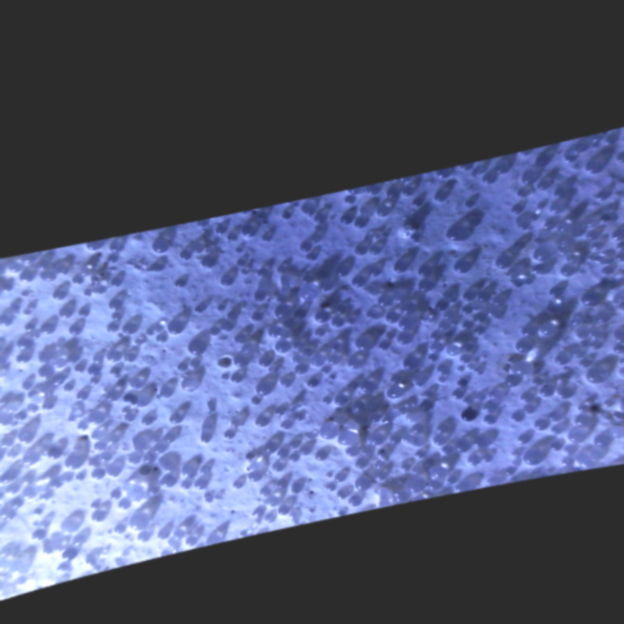GrassBeadSeg: (46, 190, 604, 513), (173, 151, 623, 474), (75, 218, 522, 537), (48, 221, 561, 496), (84, 264, 549, 566), (112, 292, 598, 545), (23, 270, 587, 476), (23, 228, 371, 557), (145, 221, 548, 495), (33, 303, 560, 511), (140, 266, 565, 519), (161, 309, 623, 538), (40, 271, 613, 443), (17, 189, 398, 442), (46, 324, 523, 519), (58, 190, 608, 357), (325, 200, 623, 490), (106, 232, 448, 481), (17, 286, 570, 435), (247, 188, 528, 481), (105, 311, 609, 474), (110, 242, 623, 398), (118, 300, 444, 533), (63, 233, 315, 532), (73, 230, 597, 369), (108, 347, 584, 499), (287, 240, 602, 460), (355, 159, 602, 433), (46, 316, 426, 493), (64, 389, 456, 560), (203, 328, 587, 502), (185, 249, 548, 429), (151, 239, 554, 397), (14, 314, 612, 420), (0, 316, 347, 498), (3, 316, 488, 446), (224, 160, 591, 331), (26, 195, 349, 386), (273, 241, 622, 416), (344, 187, 566, 456), (454, 141, 621, 492), (0, 294, 568, 396), (32, 233, 235, 514), (110, 204, 315, 477), (93, 214, 325, 451), (319, 279, 571, 495), (306, 204, 507, 469), (373, 266, 612, 480), (200, 317, 590, 444), (230, 188, 556, 335), (31, 400, 367, 539), (81, 303, 298, 514), (314, 293, 586, 460), (23, 324, 262, 512), (76, 307, 531, 404), (114, 278, 580, 369), (39, 307, 488, 401), (171, 279, 333, 538), (351, 218, 529, 452), (353, 245, 562, 443), (219, 229, 623, 331), (115, 341, 389, 491), (293, 172, 495, 374), (140, 305, 472, 426), (353, 217, 530, 443), (296, 265, 547, 421), (260, 233, 531, 374), (265, 187, 405, 452), (75, 264, 349, 399), (465, 179, 594, 464), (62, 378, 466, 469), (298, 190, 447, 436), (261, 267, 531, 402), (232, 362, 517, 488), (229, 290, 467, 439), (444, 266, 607, 483), (324, 359, 623, 477), (264, 344, 460, 523), (70, 364, 449, 455), (253, 260, 460, 426), (80, 391, 542, 464), (106, 350, 580, 420), (105, 323, 260, 534), (193, 265, 338, 489), (21, 233, 416, 315), (90, 290, 261, 479), (97, 275, 232, 510), (269, 309, 424, 513), (232, 255, 509, 368), (61, 420, 291, 556), (97, 434, 609, 495), (53, 289, 462, 361), (133, 338, 607, 400), (38, 377, 188, 570), (114, 299, 404, 398), (415, 233, 601, 386), (136, 433, 396, 542), (159, 233, 266, 485), (0, 347, 473, 404), (154, 333, 572, 397), (418, 220, 555, 410), (87, 290, 284, 422), (365, 246, 553, 383), (179, 278, 288, 514), (158, 395, 623, 450), (339, 213, 519, 349), (135, 377, 452, 454), (128, 302, 414, 387), (326, 200, 472, 364), (382, 206, 497, 411), (294, 308, 603, 384), (262, 195, 354, 450), (14, 353, 147, 529), (103, 392, 623, 437), (305, 252, 423, 449), (112, 279, 433, 350), (166, 260, 471, 334), (286, 185, 480, 301), (130, 310, 623, 355), (71, 276, 389, 345), (62, 294, 286, 391), (264, 378, 459, 489), (384, 311, 533, 450), (470, 172, 586, 345), (75, 325, 288, 418), (0, 242, 122, 404), (108, 278, 184, 538), (20, 323, 318, 388), (375, 206, 446, 473), (229, 373, 589, 425), (49, 325, 484, 368), (234, 214, 345, 382), (356, 275, 446, 478), (280, 286, 555, 352), (441, 321, 601, 432), (262, 260, 407, 380), (326, 326, 482, 434), (51, 265, 575, 297), (1, 494, 220, 570), (74, 445, 448, 489), (50, 466, 203, 572), (150, 239, 229, 439), (275, 221, 570, 273), (61, 412, 186, 529), (334, 303, 415, 482), (156, 445, 310, 539), (461, 238, 595, 345), (351, 275, 532, 352), (9, 382, 89, 556), (37, 480, 285, 536), (75, 421, 553, 450), (292, 413, 514, 475), (347, 414, 495, 506), (288, 453, 490, 520), (448, 179, 549, 308), (18, 245, 366, 282), (443, 344, 561, 451), (277, 415, 494, 470), (367, 299, 447, 445), (354, 342, 445, 468), (146, 366, 330, 426), (254, 397, 426, 459), (240, 224, 432, 276), (534, 153, 623, 262), (88, 215, 259, 271), (258, 393, 348, 496), (239, 204, 522, 236), (123, 323, 227, 409), (308, 244, 381, 366), (491, 153, 549, 304), (67, 326, 355, 356), (0, 373, 213, 412), (373, 228, 610, 263), (100, 397, 259, 449), (122, 387, 173, 549), (274, 310, 329, 455), (395, 314, 435, 501), (289, 412, 381, 493), (407, 255, 511, 326), (278, 332, 412, 387), (249, 214, 317, 322), (0, 265, 98, 338), (0, 401, 133, 453), (122, 462, 279, 506), (255, 267, 326, 364), (589, 137, 623, 339), (337, 436, 421, 516), (364, 198, 419, 319), (40, 401, 164, 454), (186, 303, 222, 483), (437, 199, 472, 383), (0, 242, 122, 291), (460, 321, 582, 368), (303, 251, 339, 405), (360, 434, 522, 468), (383, 417, 463, 485), (48, 374, 120, 447), (233, 202, 303, 277), (290, 341, 579, 358), (260, 332, 402, 366), (375, 408, 475, 456), (225, 310, 449, 331), (196, 304, 290, 354), (300, 231, 388, 281), (563, 133, 600, 250), (392, 245, 548, 272), (28, 323, 135, 362), (181, 464, 282, 505), (4, 410, 91, 457), (168, 249, 186, 475), (442, 325, 536, 368), (0, 354, 125, 386), (120, 483, 179, 547), (444, 226, 471, 363), (37, 500, 127, 539), (347, 363, 473, 390), (229, 419, 359, 444), (463, 173, 488, 301), (285, 357, 417, 381), (31, 332, 101, 377), (272, 341, 437, 360), (277, 447, 485, 462), (0, 473, 65, 519), (565, 410, 617, 467), (23, 308, 51, 413), (315, 233, 332, 405), (362, 412, 416, 466), (480, 241, 517, 318), (251, 453, 295, 517), (187, 255, 215, 354), (1, 414, 62, 459), (345, 217, 363, 368), (521, 404, 573, 454), (540, 385, 584, 443), (381, 447, 439, 491), (0, 465, 149, 482), (173, 256, 206, 330), (40, 491, 83, 546), (587, 136, 614, 223), (344, 305, 465, 324), (8, 290, 90, 315), (552, 188, 579, 263), (107, 299, 290, 310), (11, 543, 58, 585), (493, 163, 508, 294), (327, 306, 353, 381), (432, 190, 469, 241), (25, 431, 169, 443), (236, 419, 297, 447), (473, 355, 516, 394), (60, 258, 246, 267), (427, 354, 463, 399), (541, 154, 571, 205), (368, 400, 432, 423), (219, 334, 251, 380), (432, 343, 446, 445), (110, 311, 159, 340), (148, 243, 195, 272), (123, 337, 139, 422), (29, 453, 141, 465), (31, 518, 112, 534), (502, 376, 534, 414), (485, 364, 517, 401), (0, 253, 29, 293), (202, 211, 290, 224), (105, 388, 147, 414), (243, 440, 297, 460), (239, 346, 277, 374), (397, 317, 419, 365), (291, 329, 325, 360), (58, 458, 97, 484), (388, 433, 486, 443), (525, 213, 595, 227), (180, 481, 300, 489), (315, 305, 345, 336), (39, 352, 85, 372), (410, 199, 522, 207), (338, 429, 371, 454), (0, 475, 32, 500), (158, 377, 200, 396), (147, 434, 175, 461), (67, 354, 92, 384), (13, 260, 87, 270), (254, 357, 273, 395), (502, 163, 534, 185), (512, 236, 562, 250), (161, 460, 209, 474), (21, 453, 36, 497), (459, 392, 483, 418), (78, 270, 103, 293), (99, 433, 118, 463), (86, 410, 105, 440), (7, 253, 35, 273), (91, 354, 119, 374), (55, 261, 94, 275), (611, 370, 622, 418), (265, 480, 285, 506), (3, 557, 31, 575), (359, 381, 402, 392), (3, 475, 26, 494), (91, 366, 113, 385), (268, 355, 301, 367), (473, 306, 495, 323), (459, 343, 473, 369), (195, 219, 206, 252), (0, 439, 10, 471), (385, 186, 413, 197), (96, 430, 118, 444), (78, 270, 89, 297), (531, 200, 545, 221), (86, 453, 107, 467), (137, 454, 153, 472), (40, 542, 64, 554), (19, 291, 34, 309), (499, 356, 515, 372), (398, 463, 421, 474), (596, 133, 615, 146), (480, 293, 490, 316), (556, 235, 568, 254), (453, 440, 470, 451), (549, 202, 565, 213), (329, 317, 344, 328), (93, 510, 105, 522), (442, 309, 454, 318), (179, 251, 189, 260)
